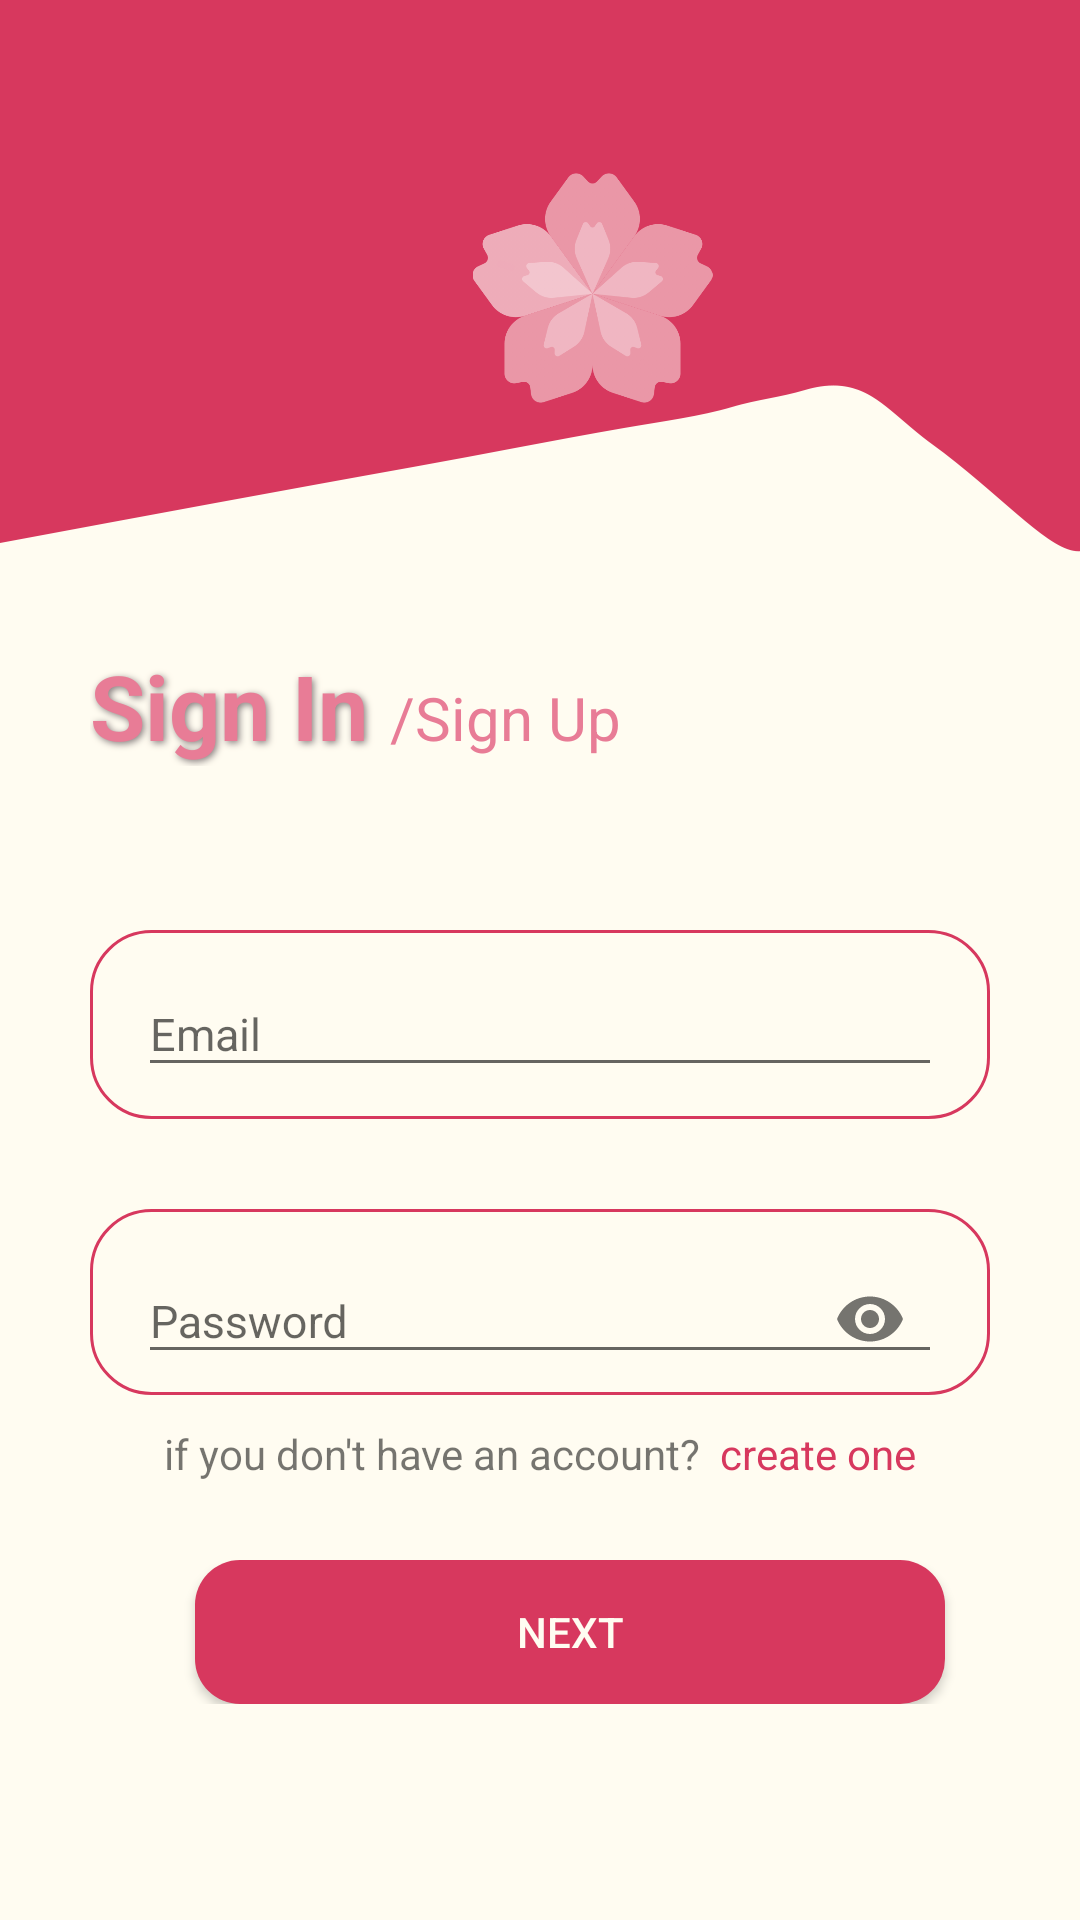

Icons on this 1080px x 1920px Android screen, each with the point to tap as [x,y]:
cherry: [593,288]
